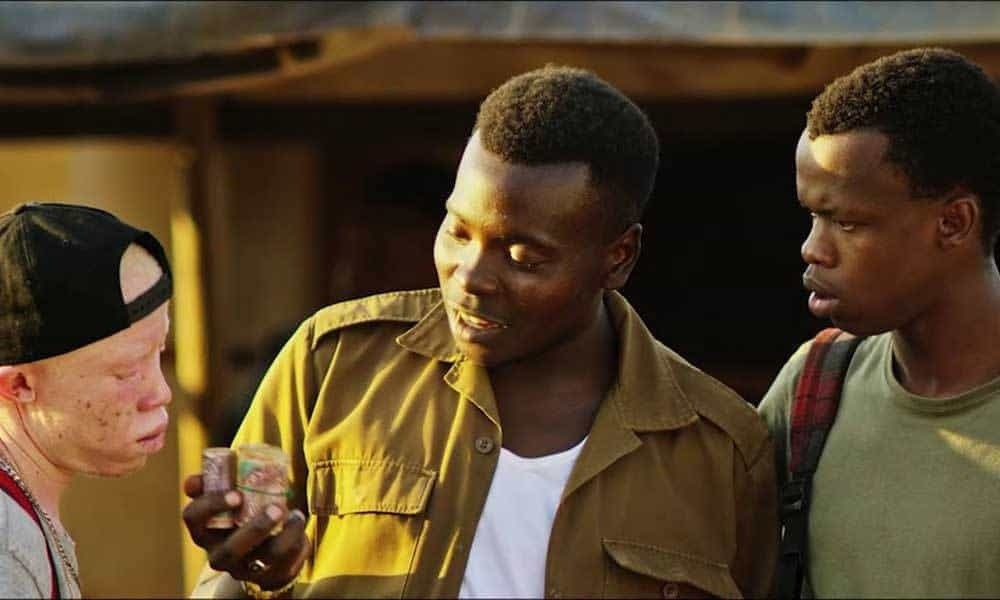face_no_mask: (435, 65, 654, 363), (798, 46, 995, 334), (6, 228, 182, 485)
